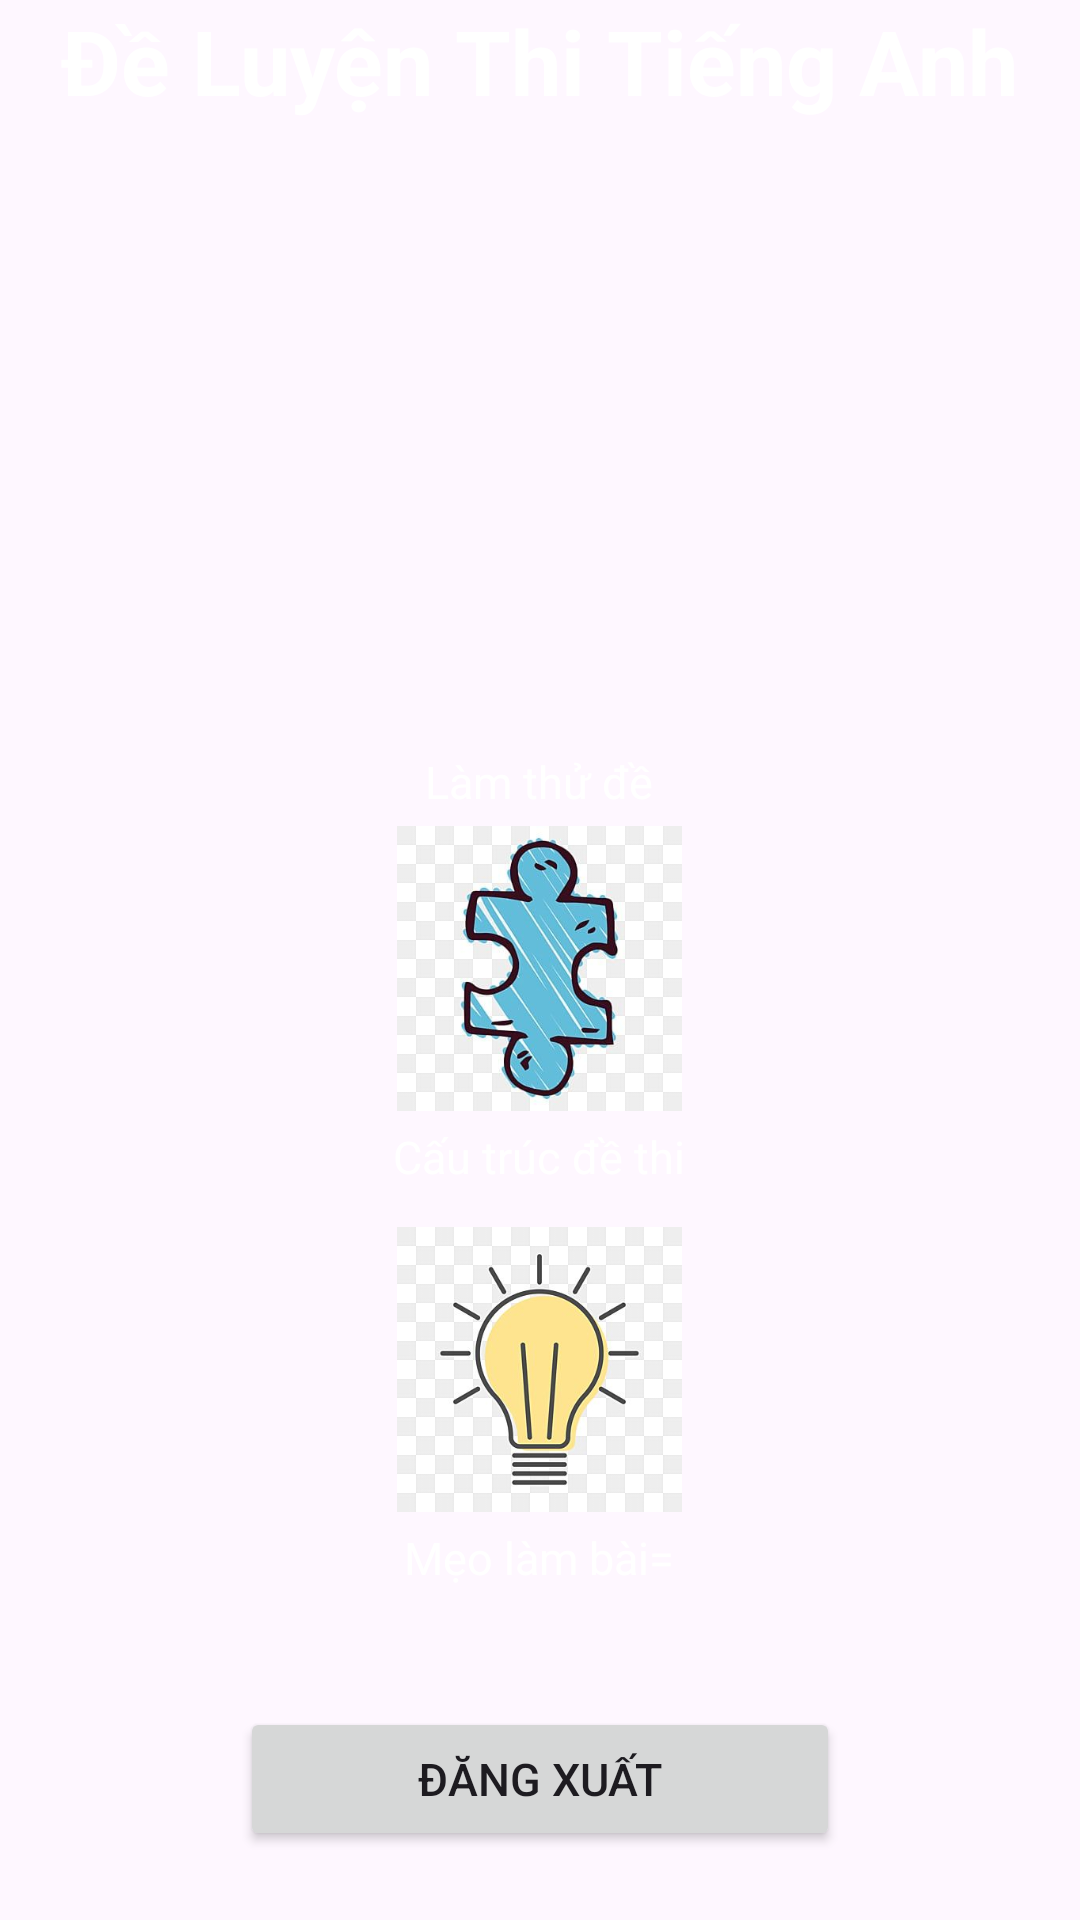

Icons on this 1080 x 1920 Android screen, each with the point to tap as (x,y):
idead: (539,1369)
puzzle: (542,971)
